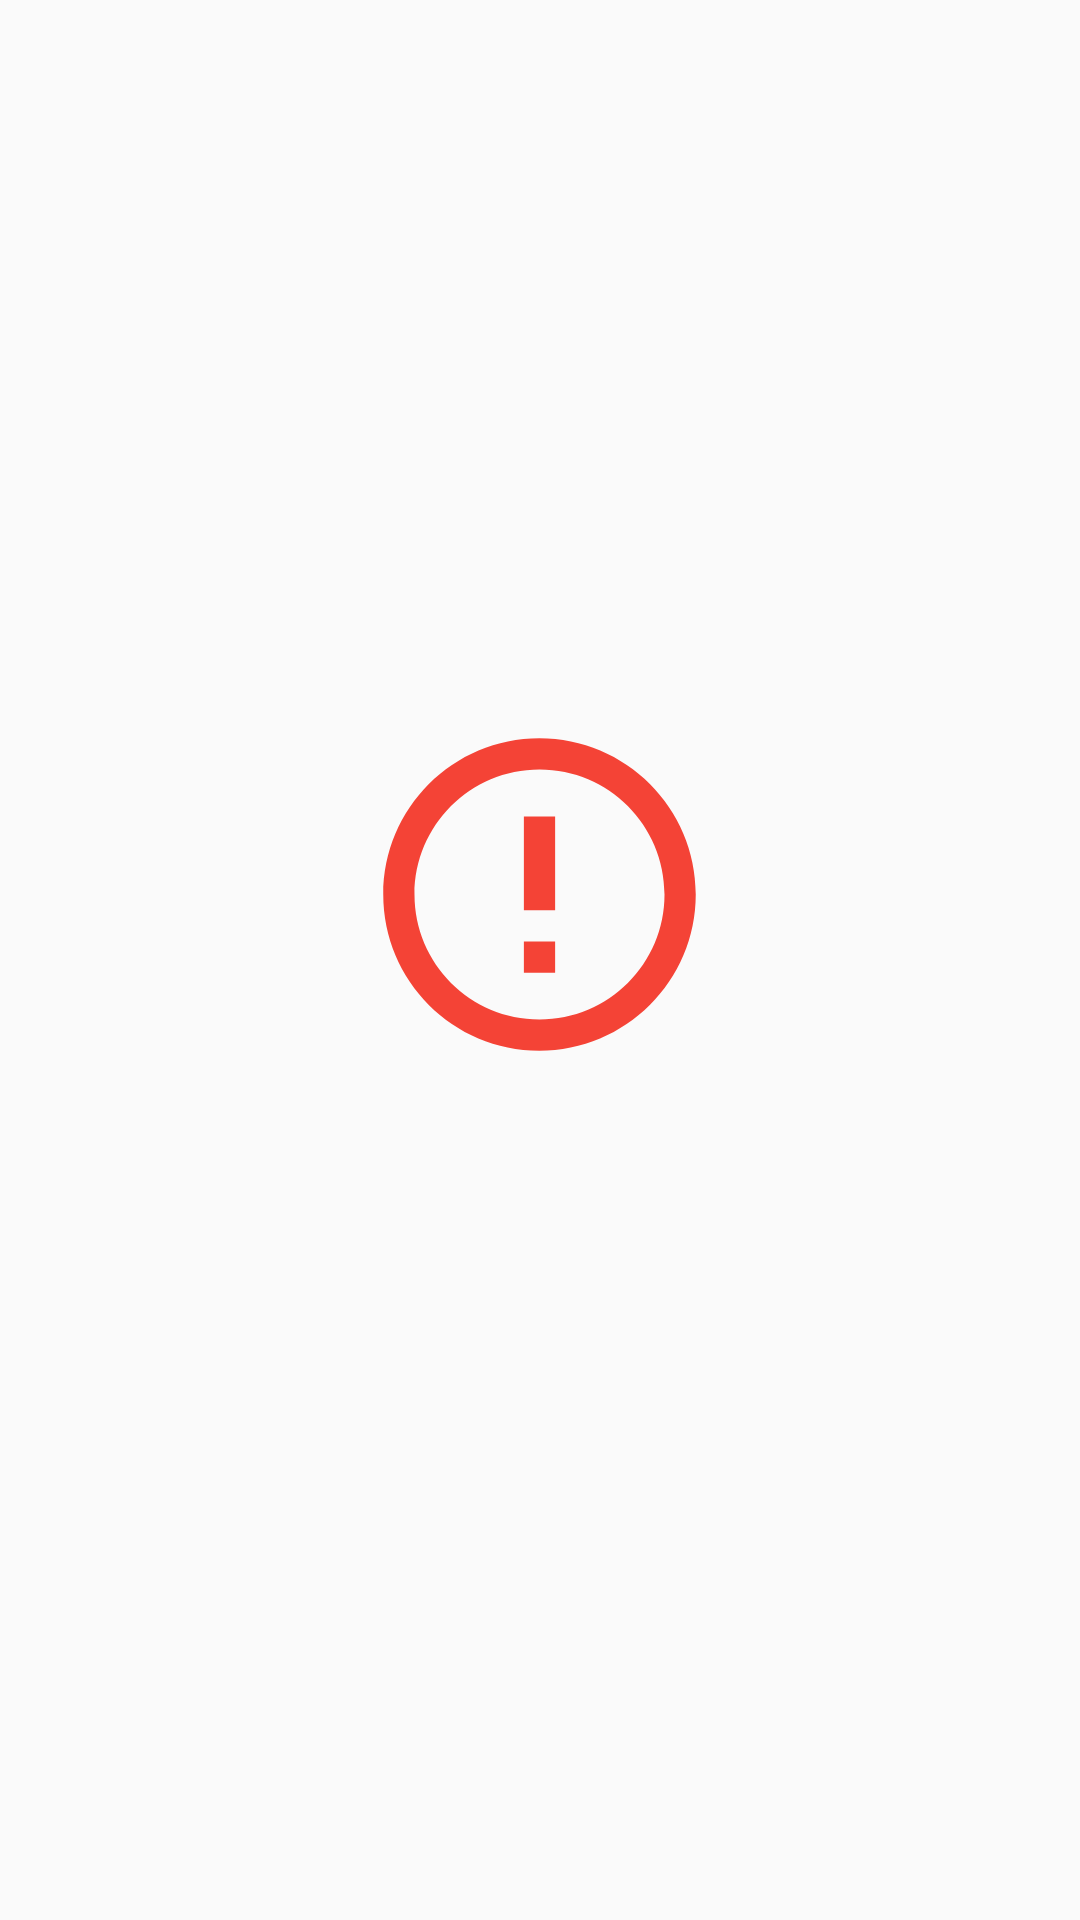

Named icons in this screenshot (1080*1920) and their bounding boxes, (x1, y1, x2, y2):
error: (383, 738, 696, 1051)
